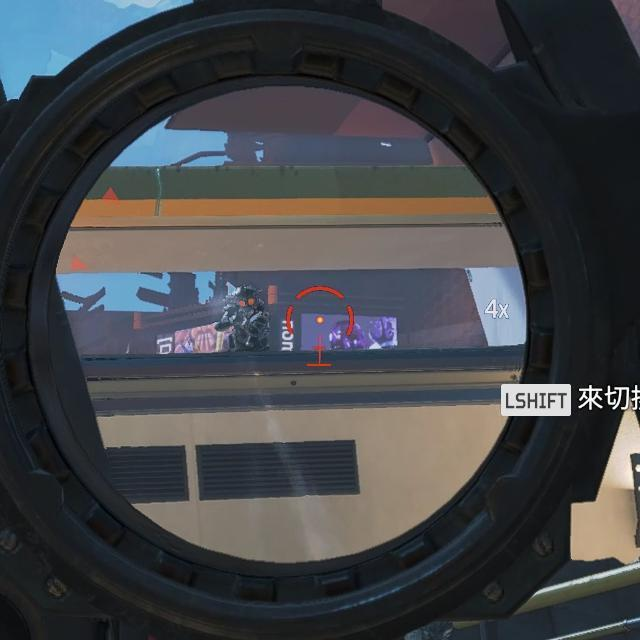avatar: (212, 282, 272, 352)
